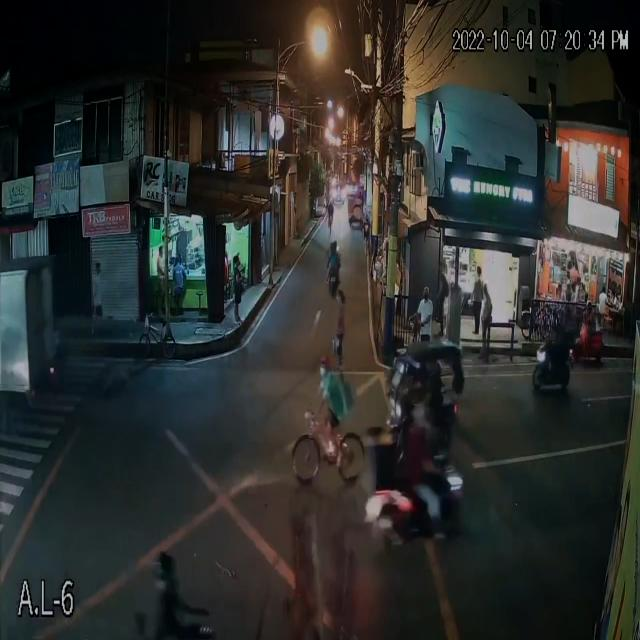Full-Faced: (150, 550, 182, 590), (584, 300, 596, 318)
Half-Faced: (318, 351, 334, 380)
